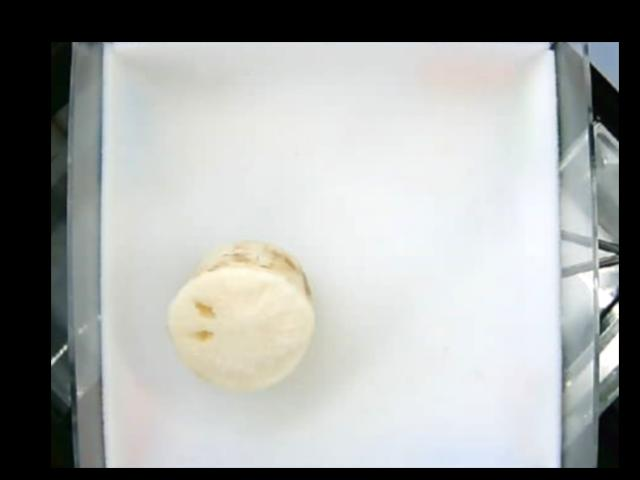Mooli: (164, 241, 314, 392)
